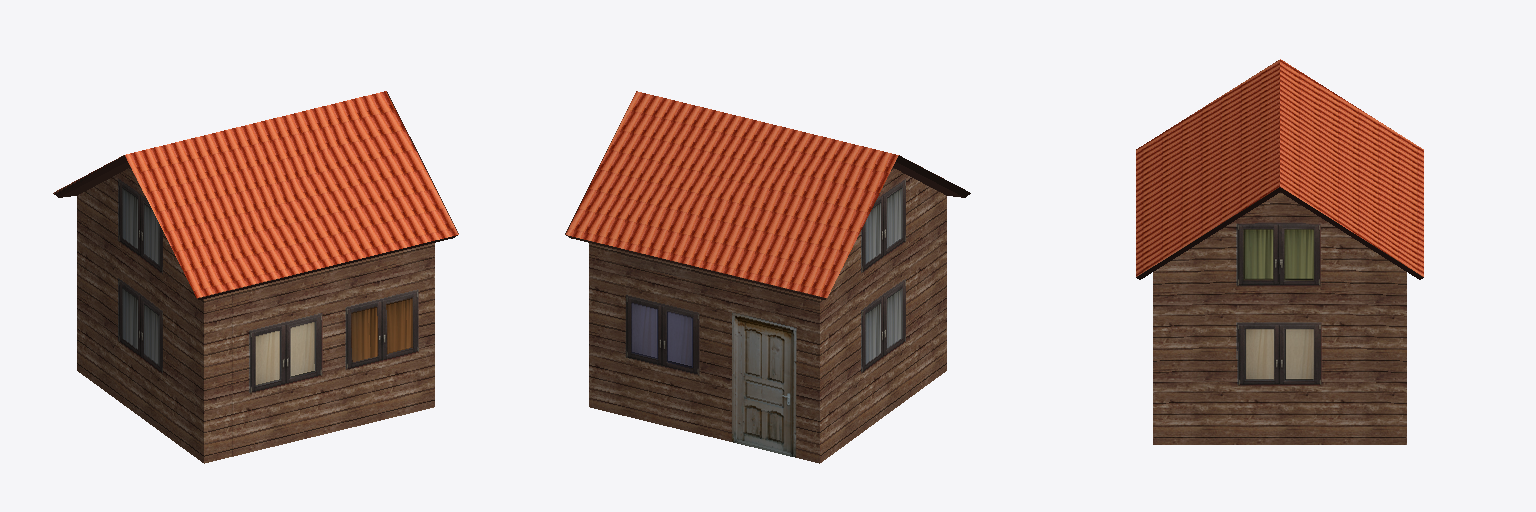
3 renders of one model, left to right at view 1: azimuth 30°, elevation 25°; view 2: azimuth 150°, elevation 25°; view 3: azimuth 270°, elevation 25°, orthographic.
Visible parts, largest first — view 1: pCube1; view 2: pCube1; view 3: pCube1.
Part boxes in pixels (x1,y1,x2,y2): pCube1: (53, 91, 458, 463); pCube1: (565, 91, 970, 463); pCube1: (1136, 59, 1423, 444).
Bounding box in the file's own units: 10.05 × 9.74 × 9.57.
Materials: 1 (1 with a texture image).